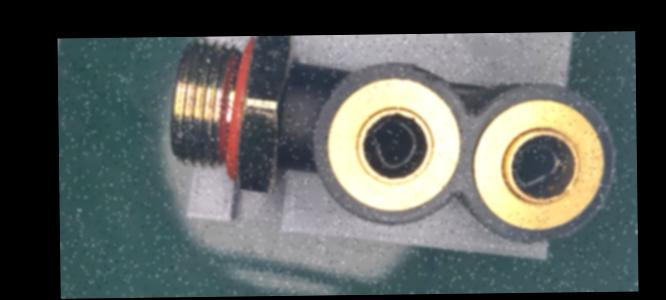bump: (403, 63, 449, 86)
off-centered: (363, 118, 422, 169), (507, 140, 568, 188)
white mark: (284, 126, 299, 138)
